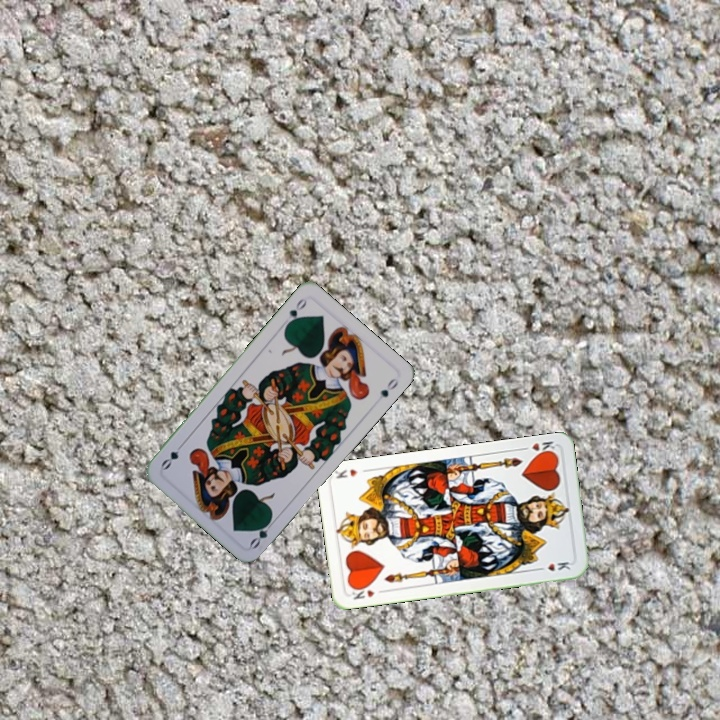GO: (246, 514, 278, 551), (278, 294, 309, 330)
HK: (517, 437, 558, 458), (346, 582, 377, 602)
